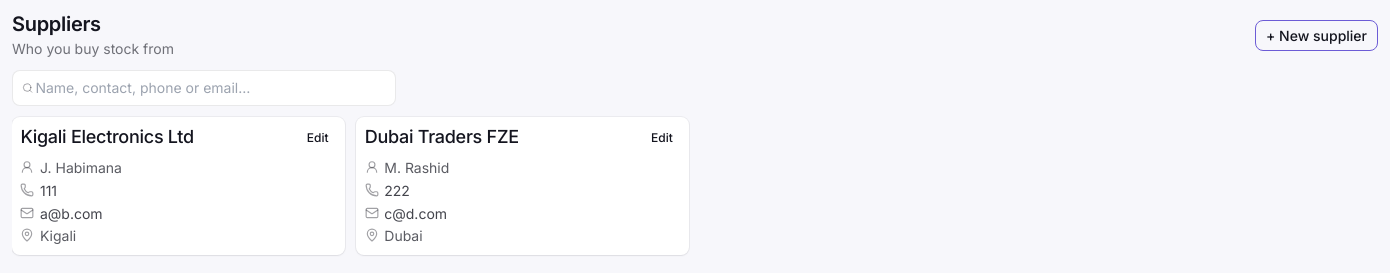
SuppliersPageClient › filters by search text across name, contact, phone, and email
Expected: the heading "Kigali Electronics Ltd" is shown, [20,126,194,147]
Type "Dubai" into the search field named "Search suppliers" at [204, 88], box [12,70,396,106]
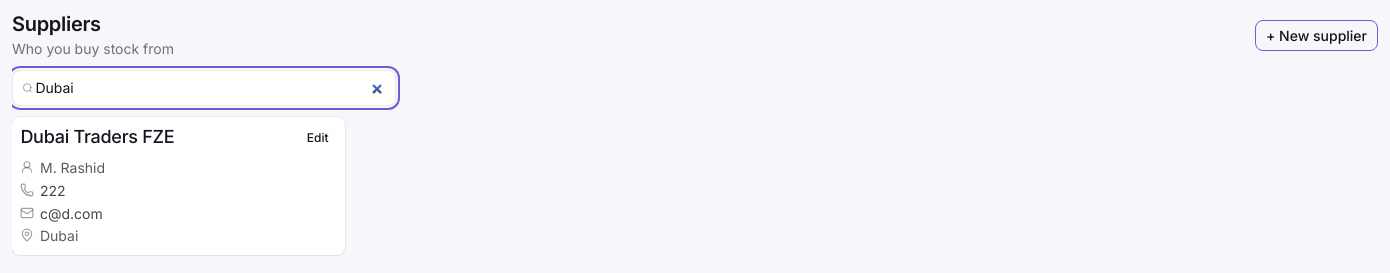
Expected: the heading "Dubai Traders FZE" is shown, [20,126,174,147]
Expected: the heading "Kigali Electronics Ltd" is gone
